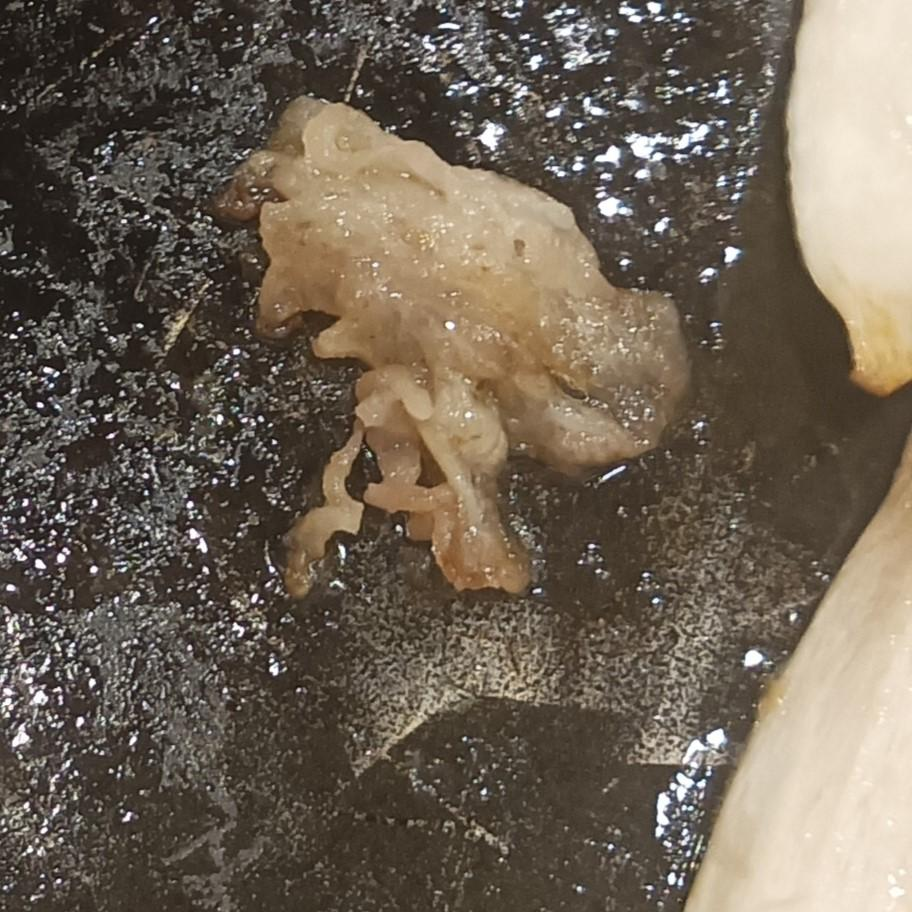Overcooked: (213, 97, 693, 601)
